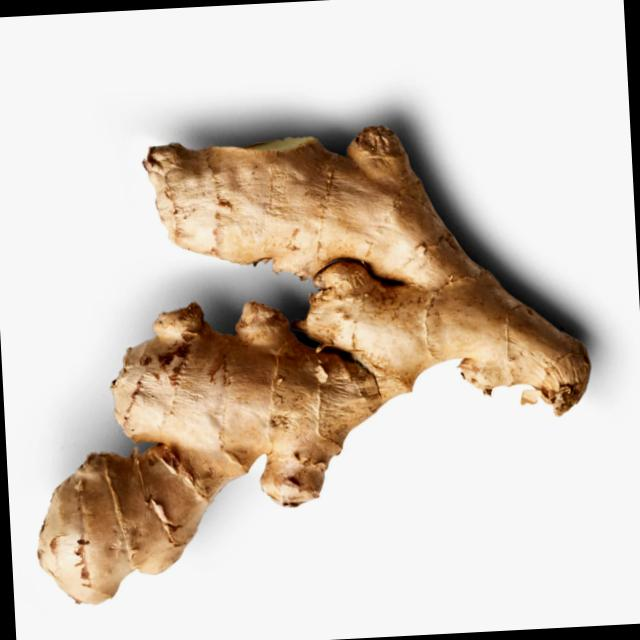ginger-root: (3, 76, 612, 620)
